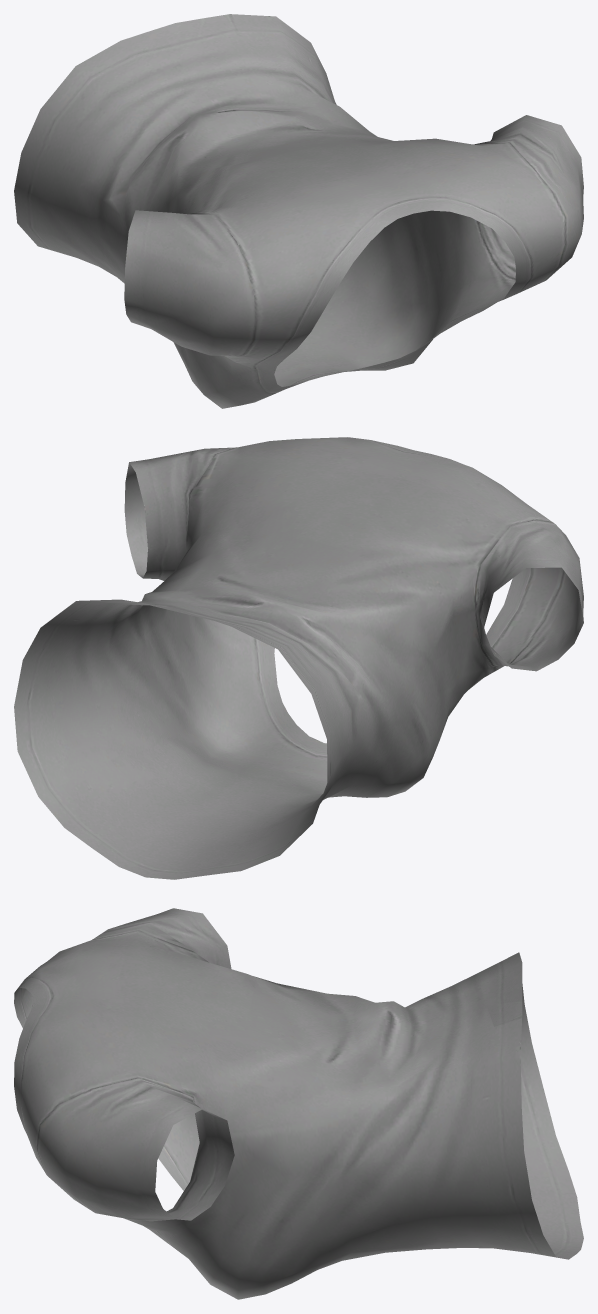
3 renders of one model, top to bottom at view 1: azimuth 30°, elevation 25°; view 2: azimuth 150°, elevation 25°; view 3: azimuth 270°, elevation 25°, orthographic. The views are drawn at different scales.
Visible parts, largest first — view 1: jbib_000_u_high_1; view 2: jbib_000_u_high_1; view 3: jbib_000_u_high_1.
Part boxes in pixels (left/top/right/bottom): jbib_000_u_high_1: left=14, top=14, right=583, bottom=408; jbib_000_u_high_1: left=14, top=437, right=583, bottom=879; jbib_000_u_high_1: left=14, top=908, right=583, bottom=1299.
Size of the model in its own units: 0.542 by 0.2969 by 0.5674.
1 material, 1 textured.
